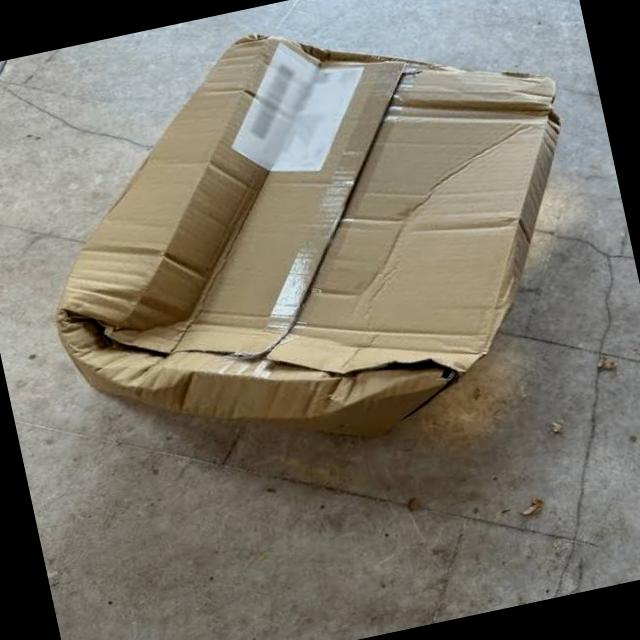carton_box: (1, 0, 630, 501)
package_damage: (39, 219, 486, 495), (244, 0, 569, 161)
